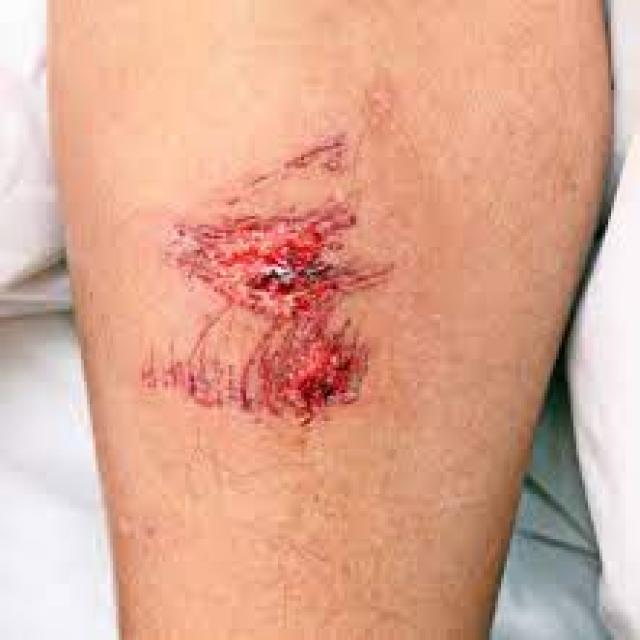Cut: (130, 129, 400, 435)
